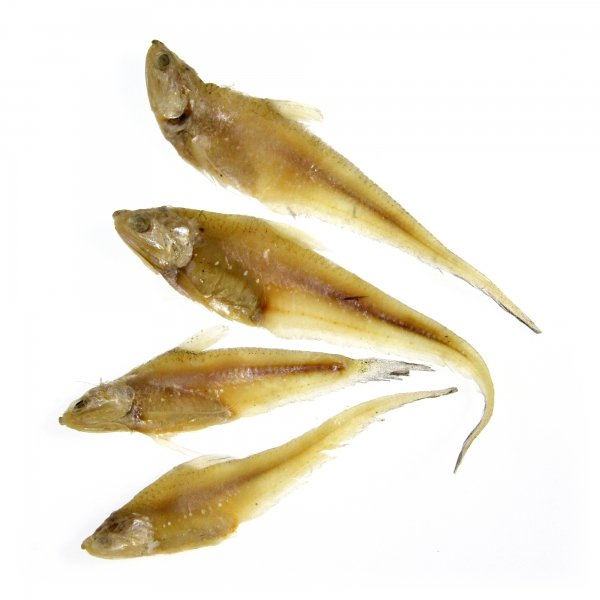kiss: (141, 34, 549, 332)
